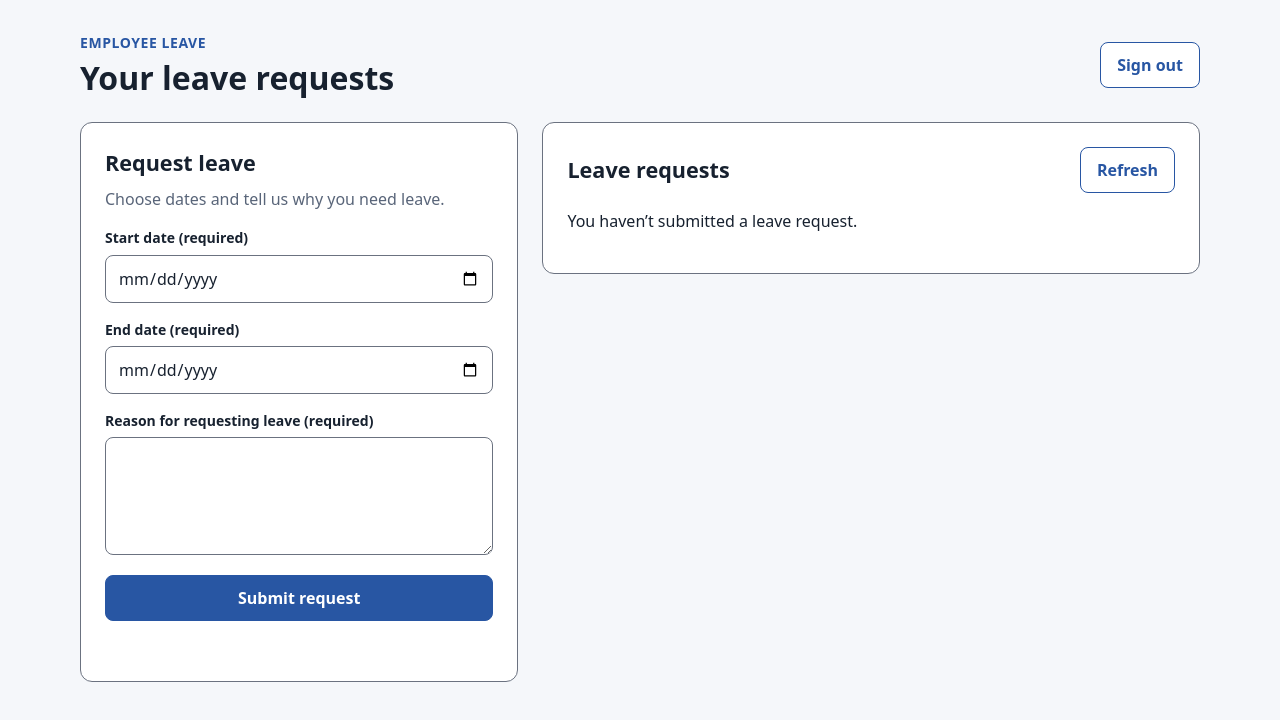
Test: EmployeeDashboard submission feedback › shows failure feedback and retains the entered values when saving fails
The image size is (1280, 720).
Expected: the heading "Your leave requests" is shown, x1=80 y1=59 x2=394 y2=98
Type "2099-01-01" into the date field labelled "Start date (required)" at (299, 279), box x1=105 y1=255 x2=493 y2=303
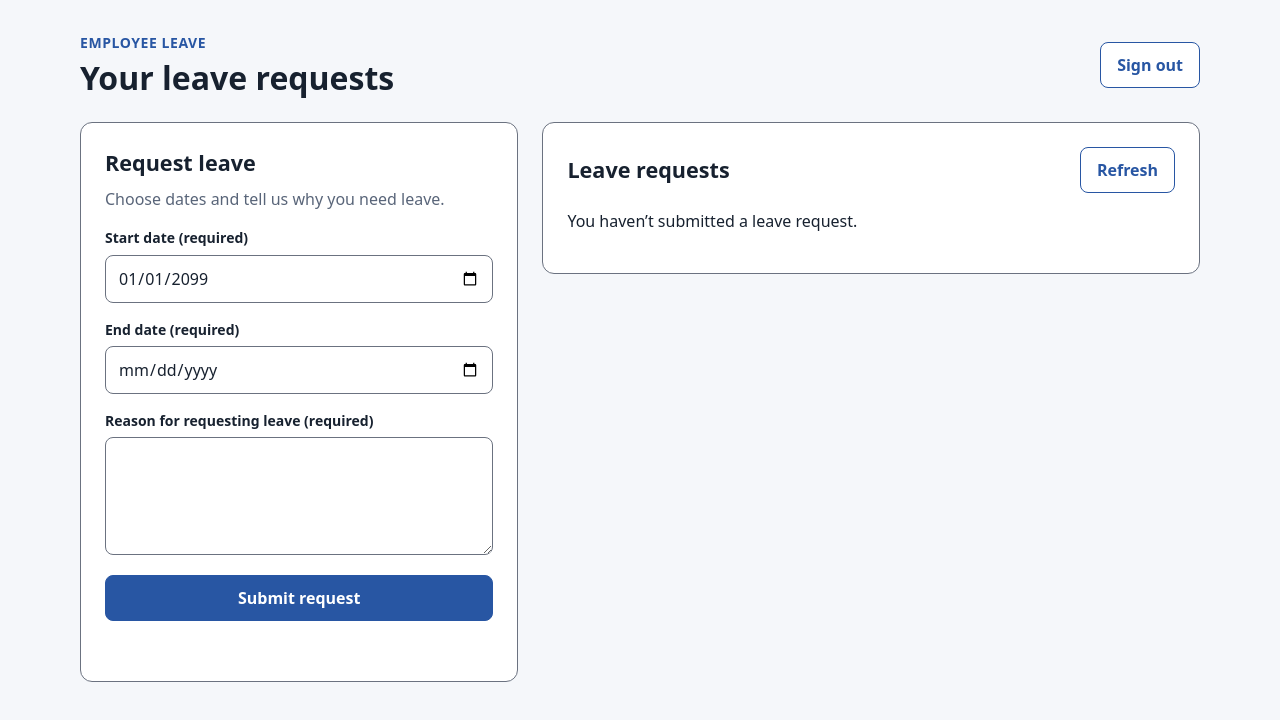
Type "2099-01-01" into the date field labelled "End date (required)" at (299, 370), box x1=105 y1=346 x2=493 y2=394
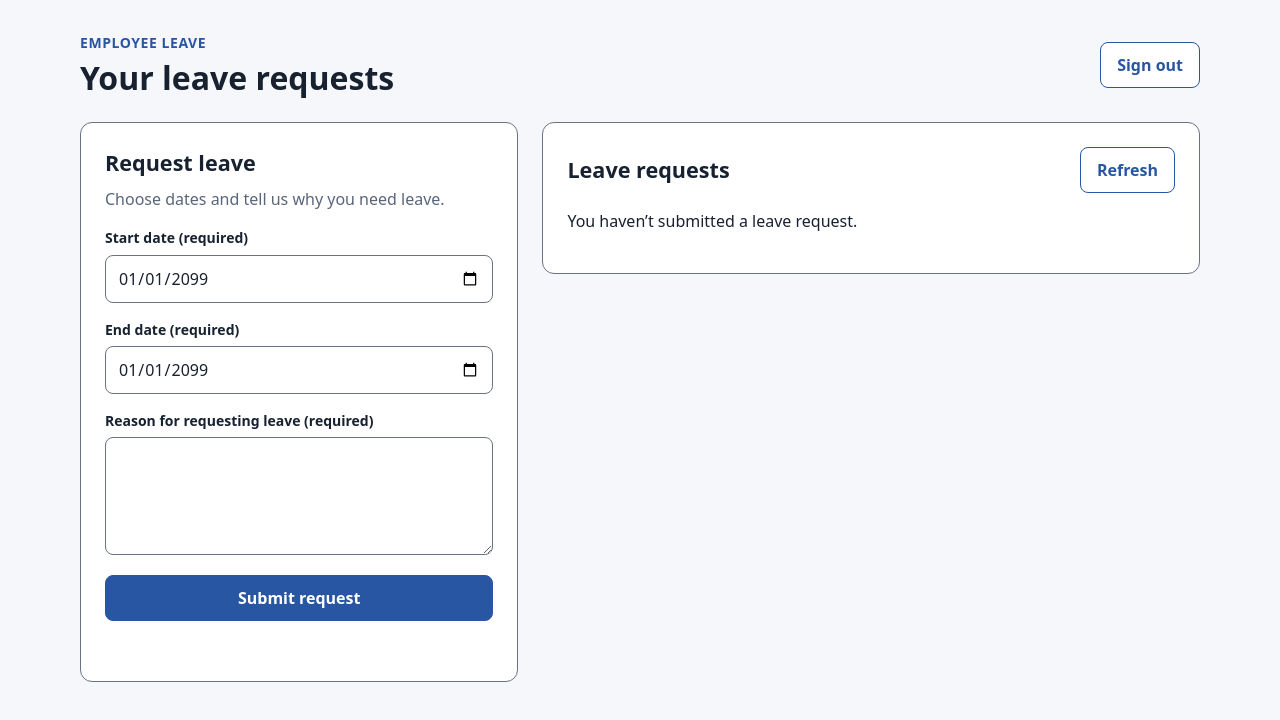
Type "Keep these values" into the text box labelled "Reason for requesting leave (required)" at (299, 496), box x1=105 y1=437 x2=493 y2=555
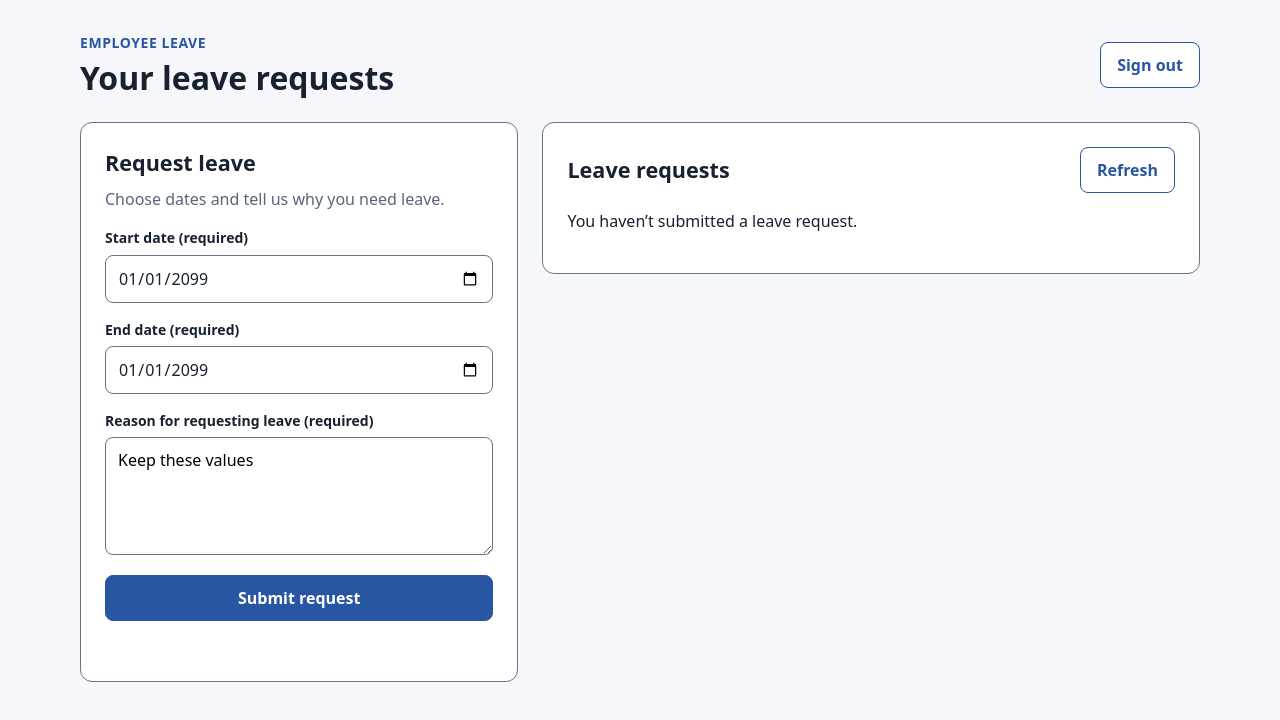
Click the button "Submit request" at (299, 598), box x1=105 y1=575 x2=493 y2=621
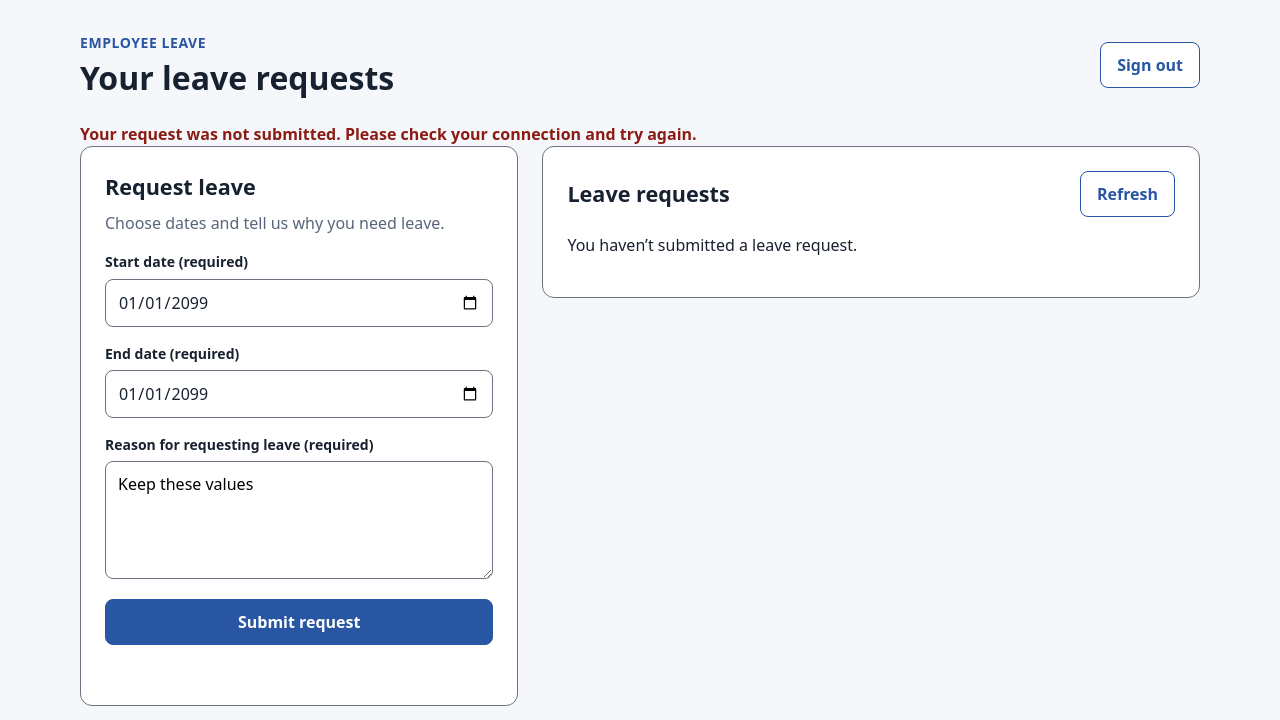
Expected: the button "Submit request" is enabled, x1=105 y1=599 x2=493 y2=645
Expected: the message "Your request was not submitted. Please check your connection and try again." is shown, x1=80 y1=123 x2=697 y2=145
